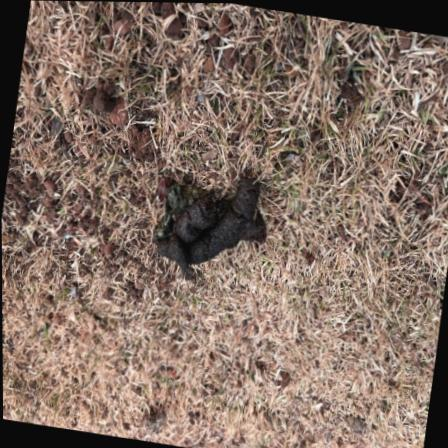dog-poop: (140, 172, 269, 293)
